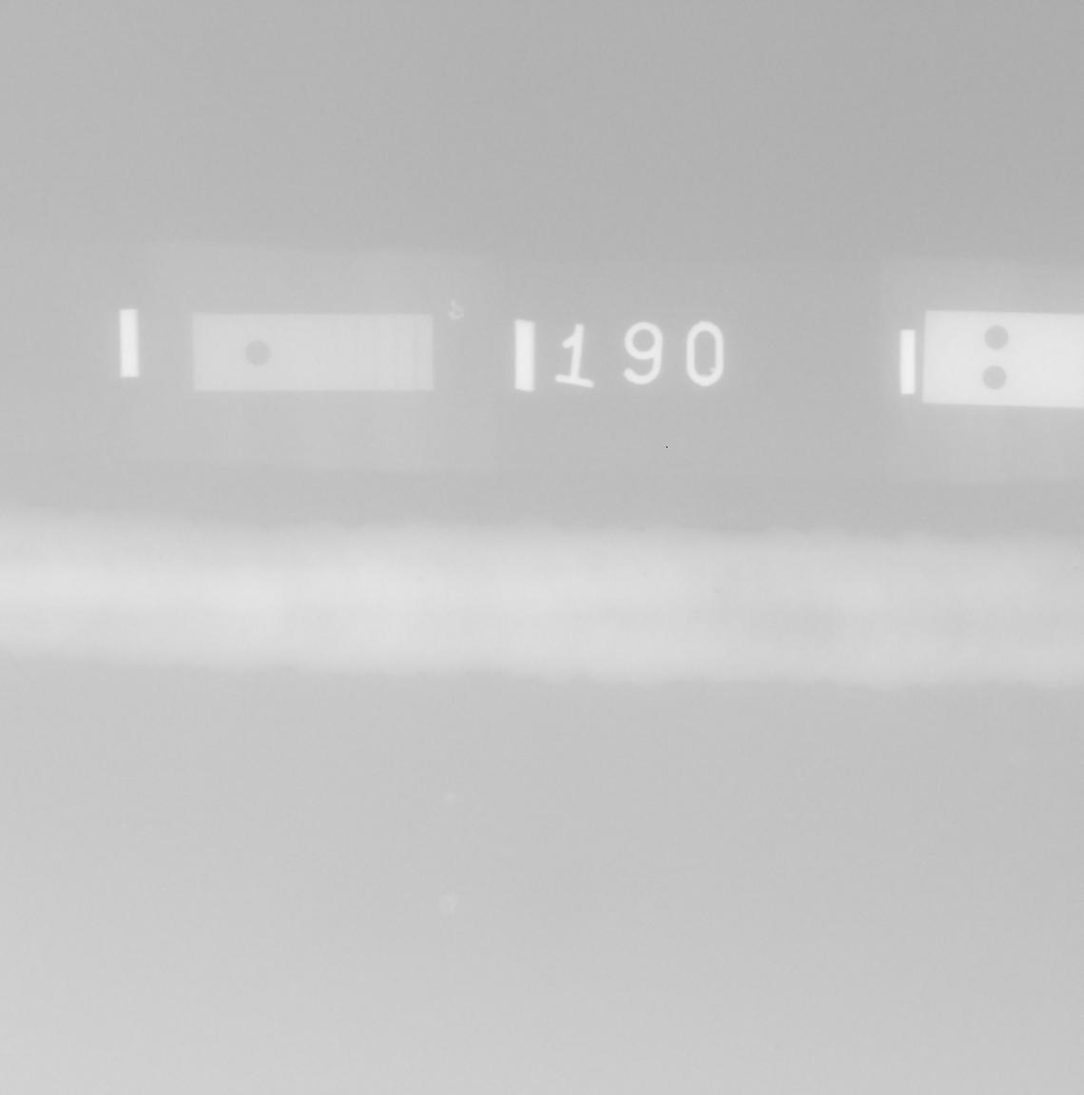Pore/Porosity: (1073, 566, 1079, 572), (417, 577, 422, 581), (644, 572, 649, 576), (714, 590, 718, 594), (446, 612, 449, 616)
Reference Standard 1: (193, 314, 432, 391)
